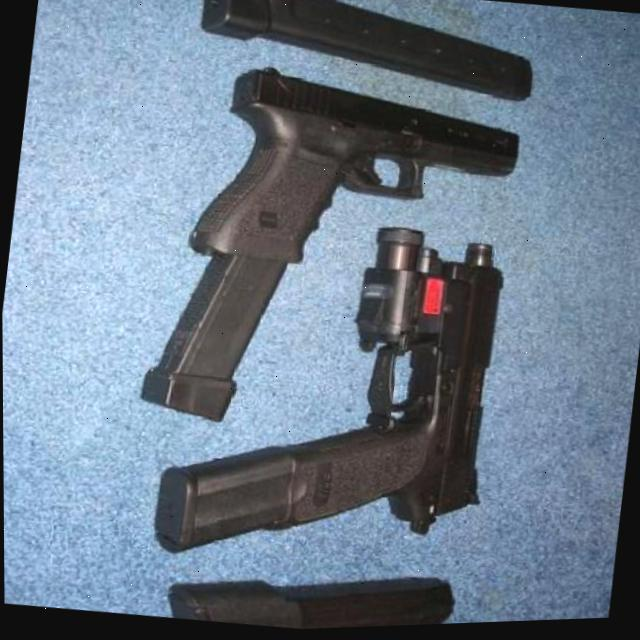gun: (181, 53, 529, 295), (272, 213, 512, 560)
